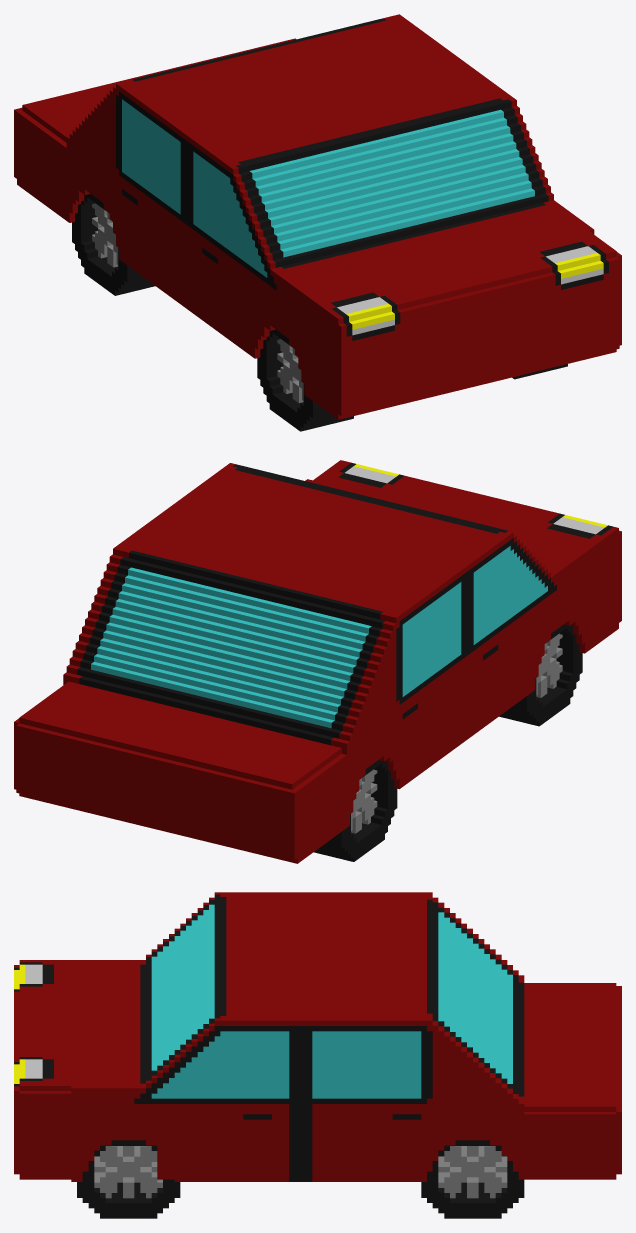
The model's file is caramogus (1).obj.
The picture shows the model from 3 angles, top to bottom: view 1: azimuth 30°, elevation 25°; view 2: azimuth 150°, elevation 25°; view 3: azimuth 270°, elevation 25°; orthographic projection. The views are drawn at different scales.
Bounding box in the file's own units: 5.3 × 3.9 × 10.6.
